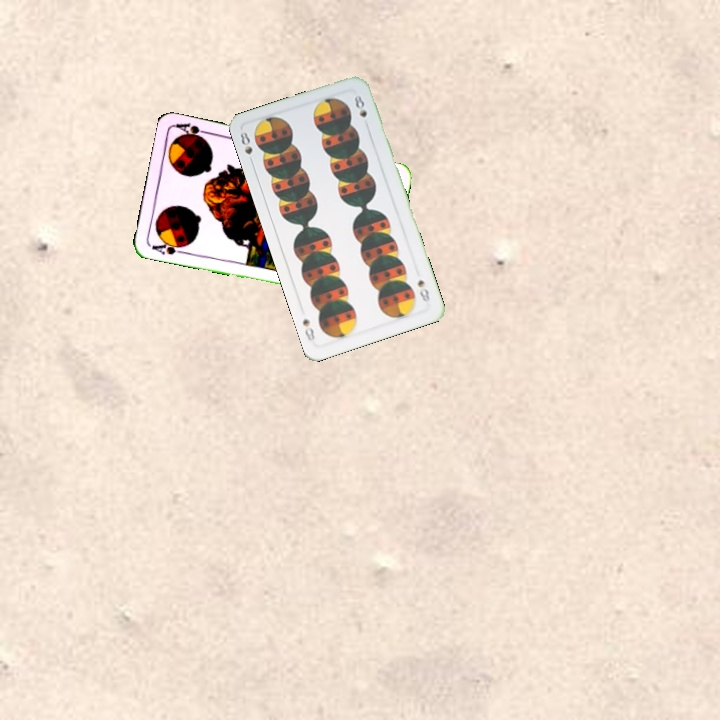S8: (236, 128, 256, 167), (414, 276, 432, 304)
SA: (147, 237, 189, 257)
